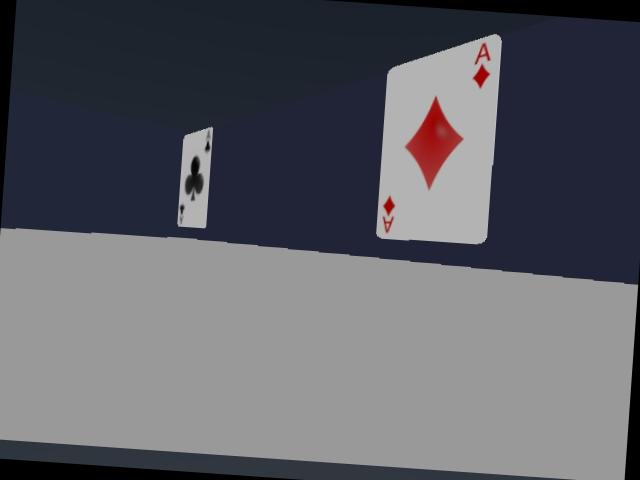club: (177, 127, 212, 227)
diamond: (376, 35, 501, 243)
